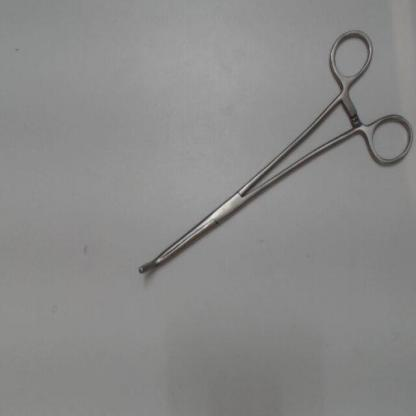Lahey Forceps: (128, 12, 414, 297)
